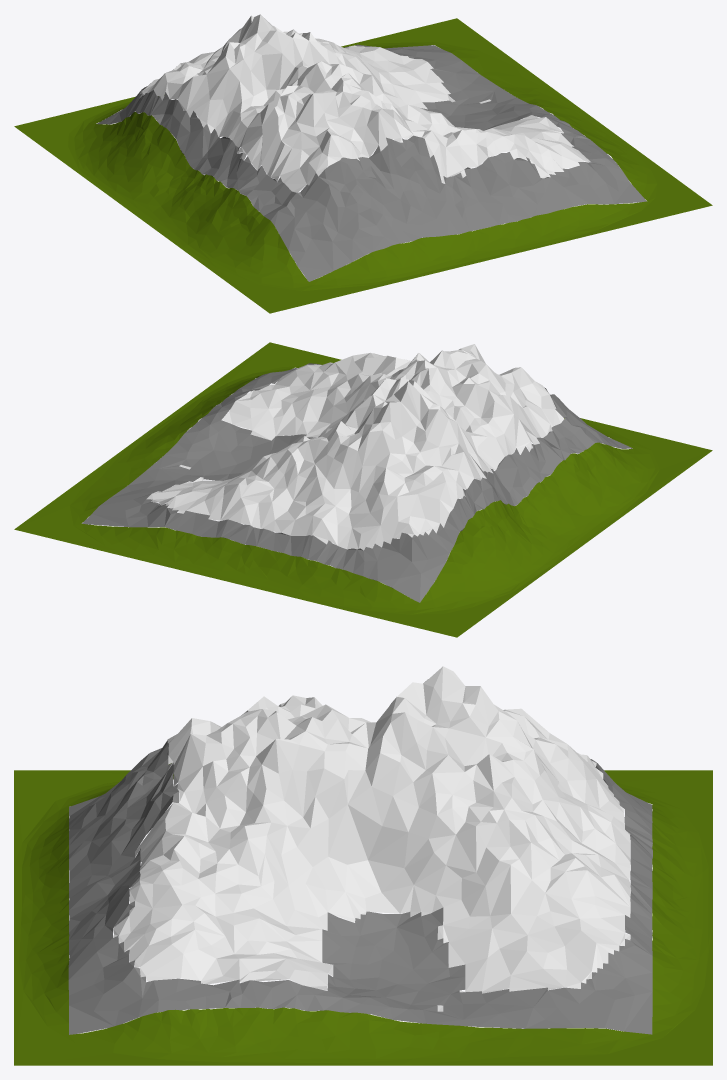
The model's file is mountain.fbx.
The picture shows the model from 3 angles, top to bottom: view 1: azimuth 30°, elevation 25°; view 2: azimuth 150°, elevation 25°; view 3: azimuth 270°, elevation 25°; orthographic projection. The views are drawn at different scales.
Visible parts, largest first — view 1: Landscape.001, Landscape.002, Landscape.010; view 2: Landscape.010, Landscape.001, Landscape.002; view 3: Landscape.010, Landscape.001, Landscape.002.
Part boxes in pixels (x1,y1,x2,y2): Landscape.001: (14,18,712,313); Landscape.002: (97,44,646,281); Landscape.010: (139,14,589,192); Landscape.010: (146,344,564,550); Landscape.001: (14,342,712,637); Landscape.002: (82,363,632,602); Landscape.010: (113,666,630,1011); Landscape.001: (14,763,712,1065); Landscape.002: (68,740,652,1034).
Bounding box in the file's own units: 200 × 63.97 × 200.
